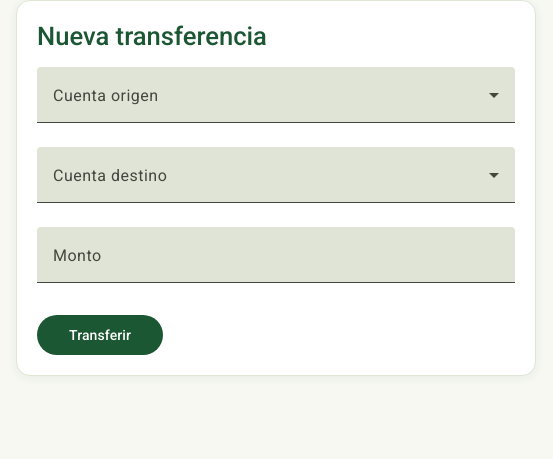
Test: TransferenciaFormComponent › debe_mostrar_advertencia_con_el_motivo_cuando_el_201_trae_EN_REVISION
This screenshot has width=553, height=459.
Select "1000000001 - Titular 1" in the dropdown named "cuentaOrigen". click: coordinates (276, 103)
box: [53,91,499,115]
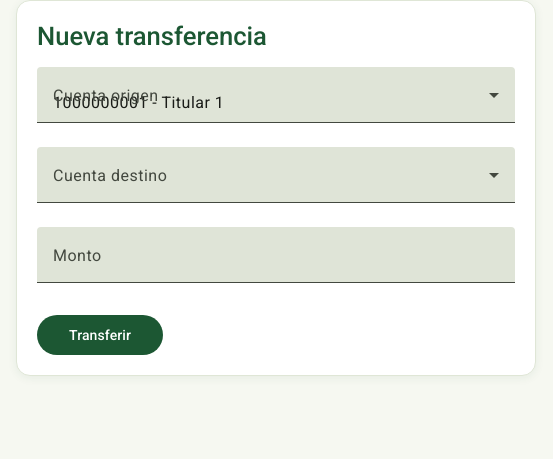
Select "1000000002 - Titular 2" in the dropdown named "cuentaDestino". click: coordinates (276, 183)
box: [53,171,499,195]
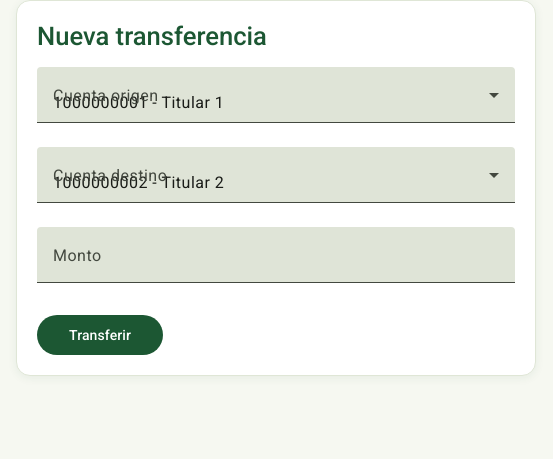
Type "6000" into the field named "monto". click: coordinates (276, 263)
box: [53,251,499,275]
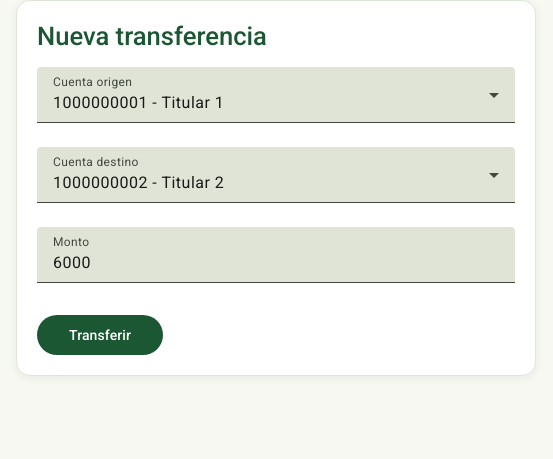
Click the submit button. click: coordinates (100, 335)
box: [37,315,163,355]
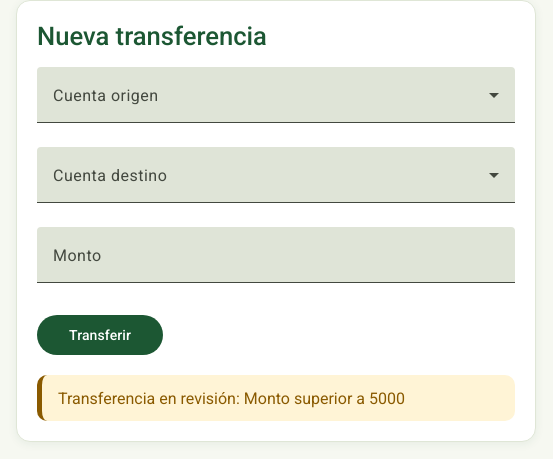
Now the message with test id "resultado" shows "Transferencia en revisión", box [58,389,405,408]
Now the message with test id "resultado" shows "Monto superior a 5000", box [58,389,405,408]
